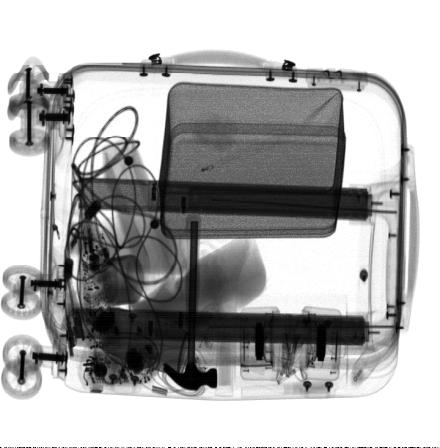Hammer: (163, 214, 218, 392)
